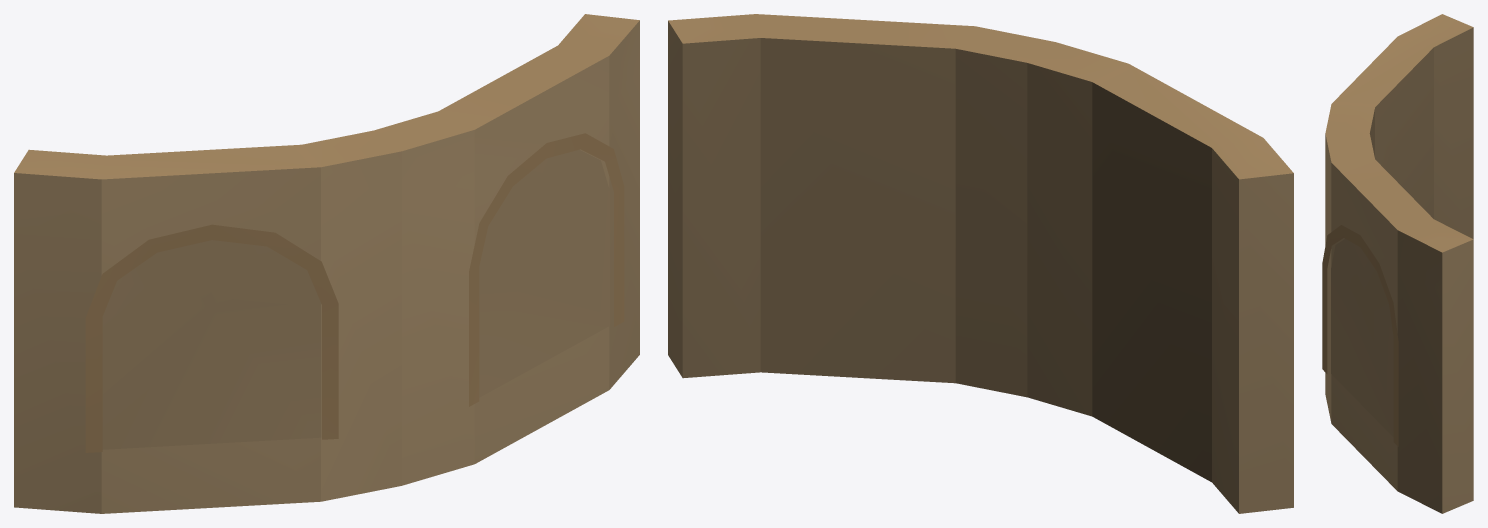
File: dome.drum_solid.sandstone.glb
The picture shows the model from 3 angles, left to right: view 1: azimuth 30°, elevation 25°; view 2: azimuth 150°, elevation 25°; view 3: azimuth 270°, elevation 25°; orthographic projection. The views are drawn at different scales.
Visible parts, largest first — view 1: dome_drum_solid_sandstone; view 2: dome_drum_solid_sandstone; view 3: dome_drum_solid_sandstone.
Boxes of the visible parts, bbox=[...] form: dome_drum_solid_sandstone: bbox=[14, 14, 639, 513]; dome_drum_solid_sandstone: bbox=[668, 14, 1293, 513]; dome_drum_solid_sandstone: bbox=[1322, 14, 1473, 513].
Size of what is drawn, in the model's own units: 5.09 by 2.6 by 1.37.
